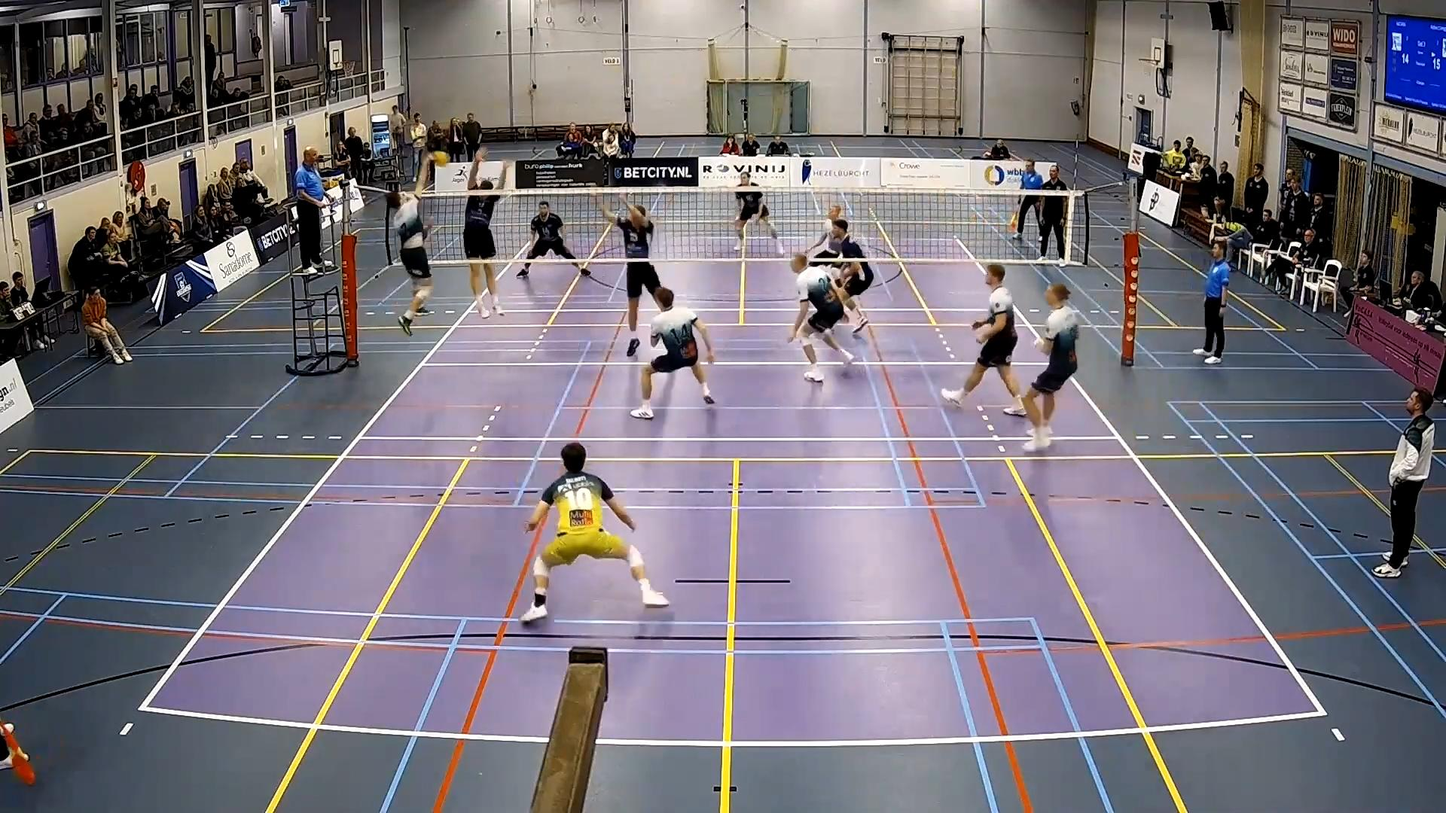attacco: (374, 169, 442, 332)
muro: (459, 147, 516, 325)
